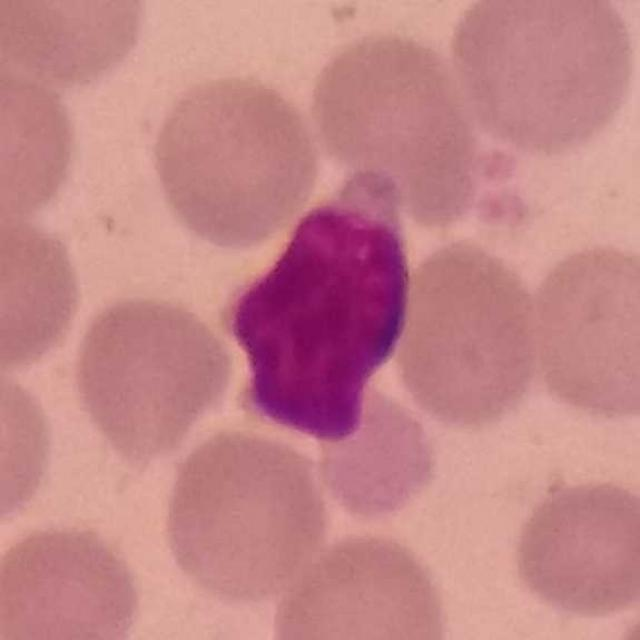Lymphocyte: (220, 164, 418, 450)
RBC: (302, 23, 490, 224), (144, 68, 326, 251), (156, 420, 334, 606), (386, 233, 546, 432), (443, 0, 639, 158), (66, 287, 239, 463), (522, 235, 640, 425), (264, 524, 455, 640), (305, 370, 442, 528), (505, 472, 640, 622), (0, 516, 147, 640), (0, 51, 83, 223), (0, 213, 88, 374), (0, 0, 154, 88), (0, 358, 59, 540), (534, 1, 639, 75)
